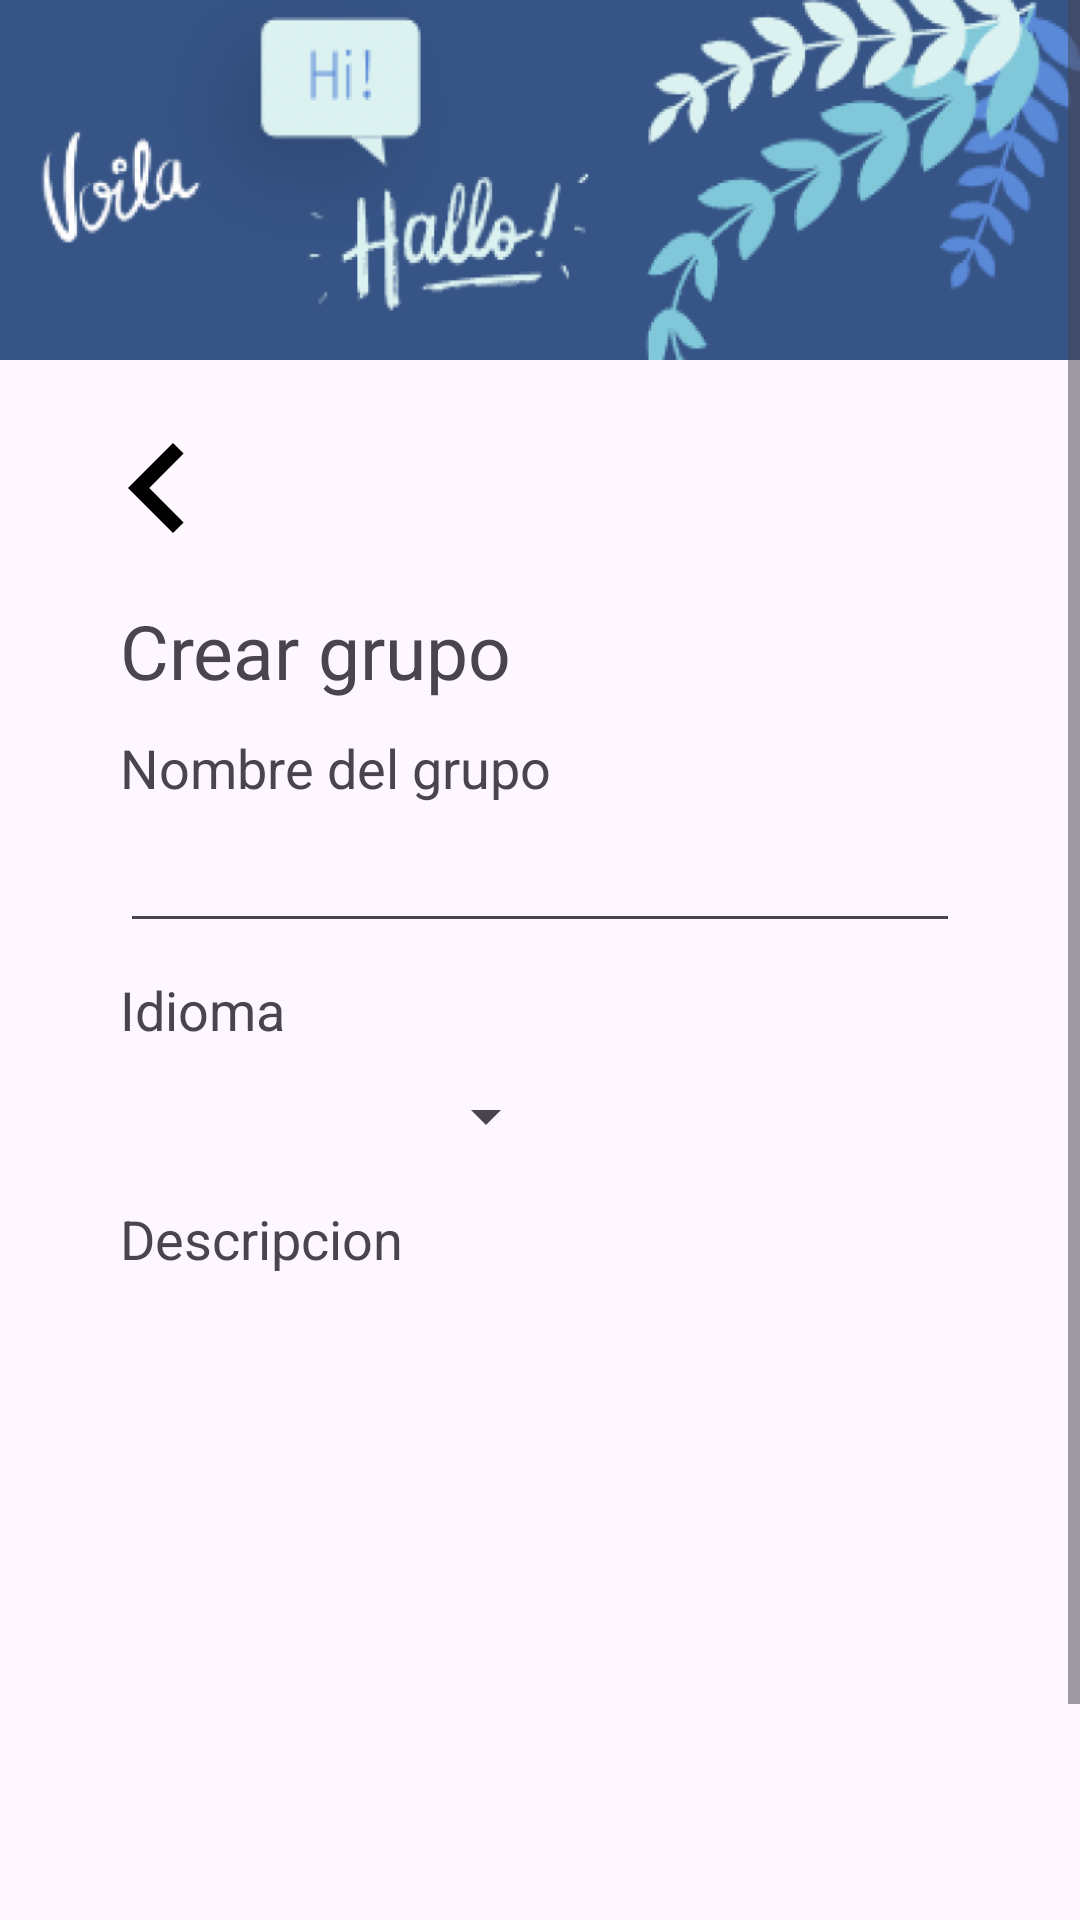

Named icons in this screenshot (1080px x 1920px) and their centers, (x=x, y=y):
chevron left: (x=156, y=488)
